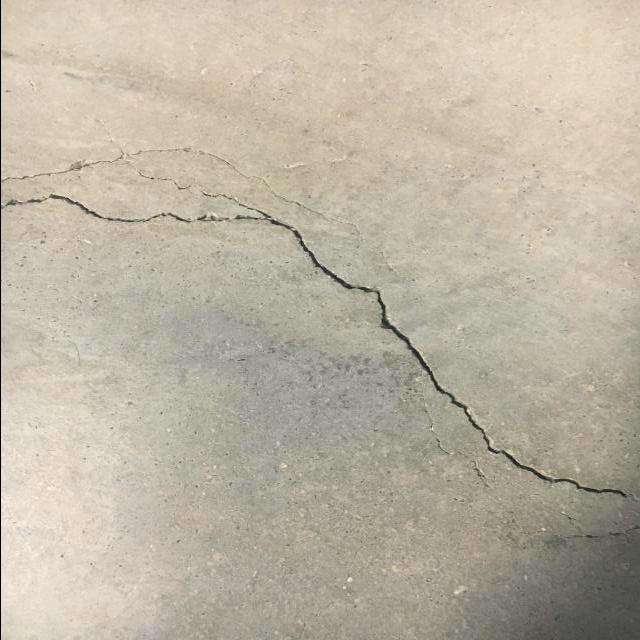SurfaceCrack: (2, 137, 640, 539)
